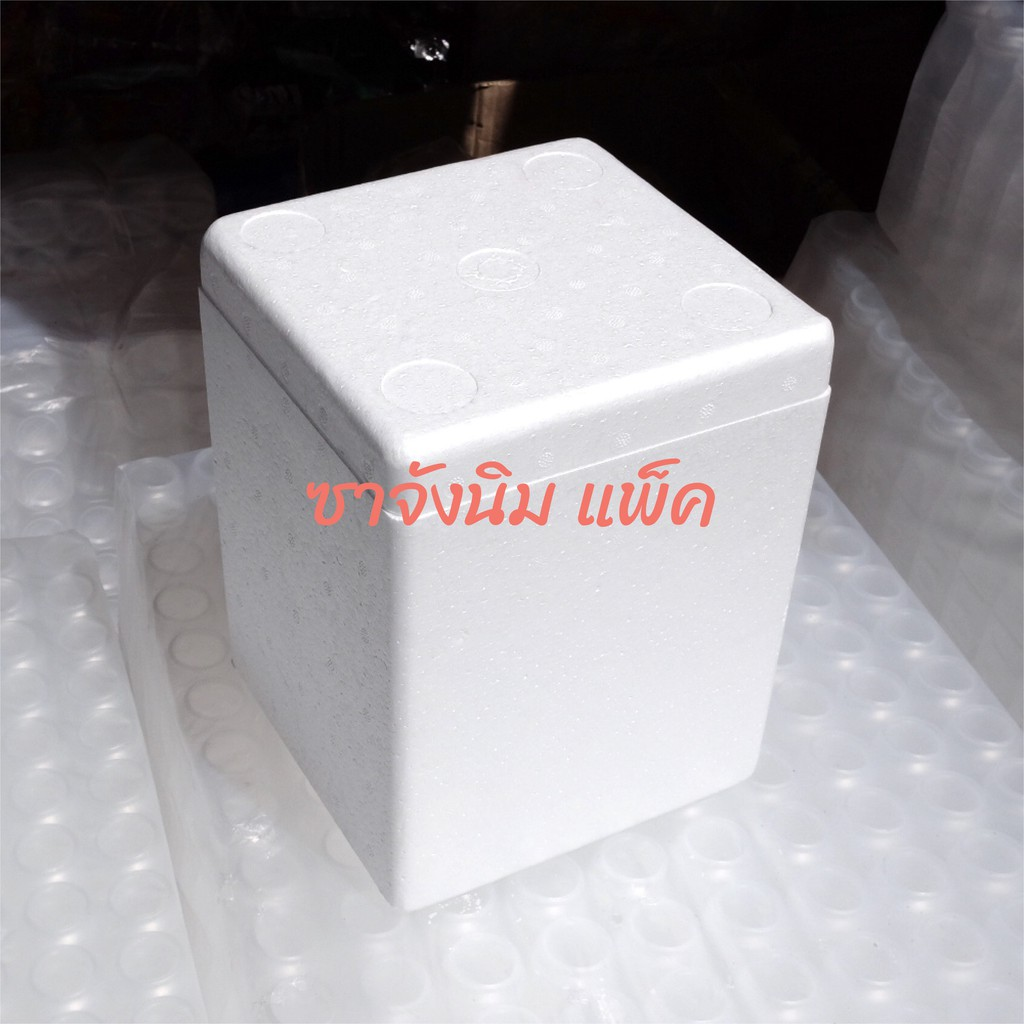Foam Box: (188, 124, 840, 916)
